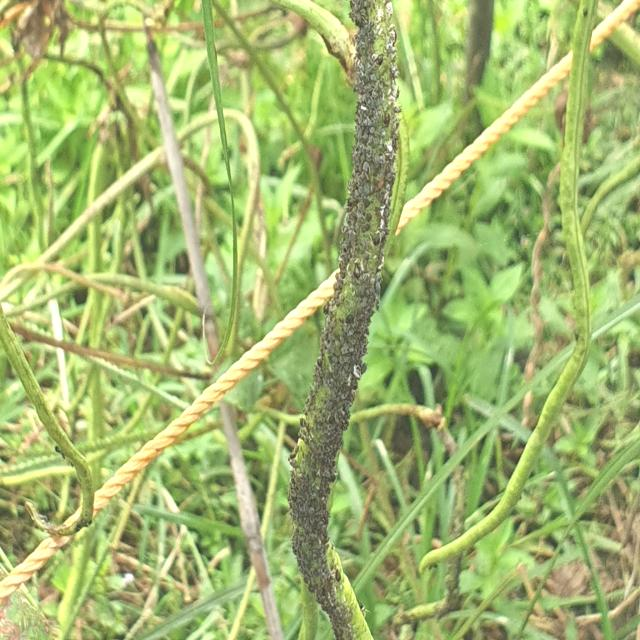sitaw-aphid-moderate: (288, 0, 401, 640)
sitaw-moderate: (420, 0, 640, 574)
